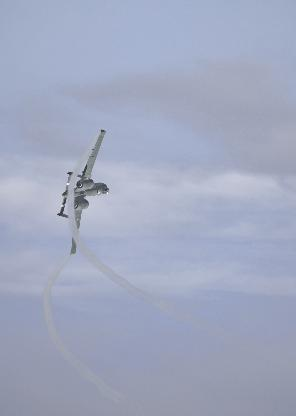A10: (57, 131, 110, 256)
